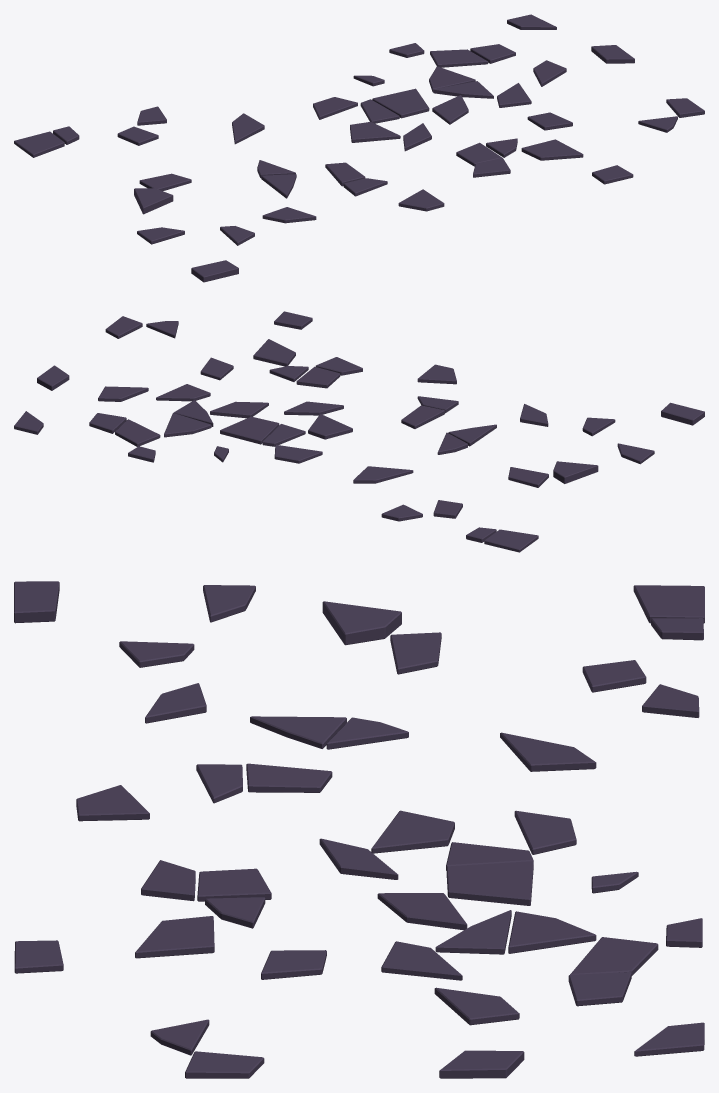
File: Floor1_StoneDark.fbx
3 views of the same model, one above another, from view 1: azimuth 30°, elevation 25°; view 2: azimuth 150°, elevation 25°; view 3: azimuth 270°, elevation 25° (orthographic). The views are drawn at different scales.
Visible parts, largest first — view 1: Slab0_0_0.001; view 2: Slab0_0_0.001; view 3: Slab0_0_0.001.
Boxes of the visible parts, bbox=[...] form: Slab0_0_0.001: bbox=[14, 14, 704, 282]; Slab0_0_0.001: bbox=[14, 311, 704, 552]; Slab0_0_0.001: bbox=[14, 581, 704, 1078].
Bounding box in the file's own units: 14958 × 194 × 8956.
